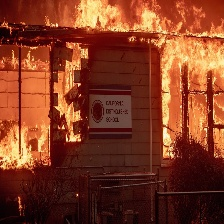fire: (1, 2, 224, 167)
